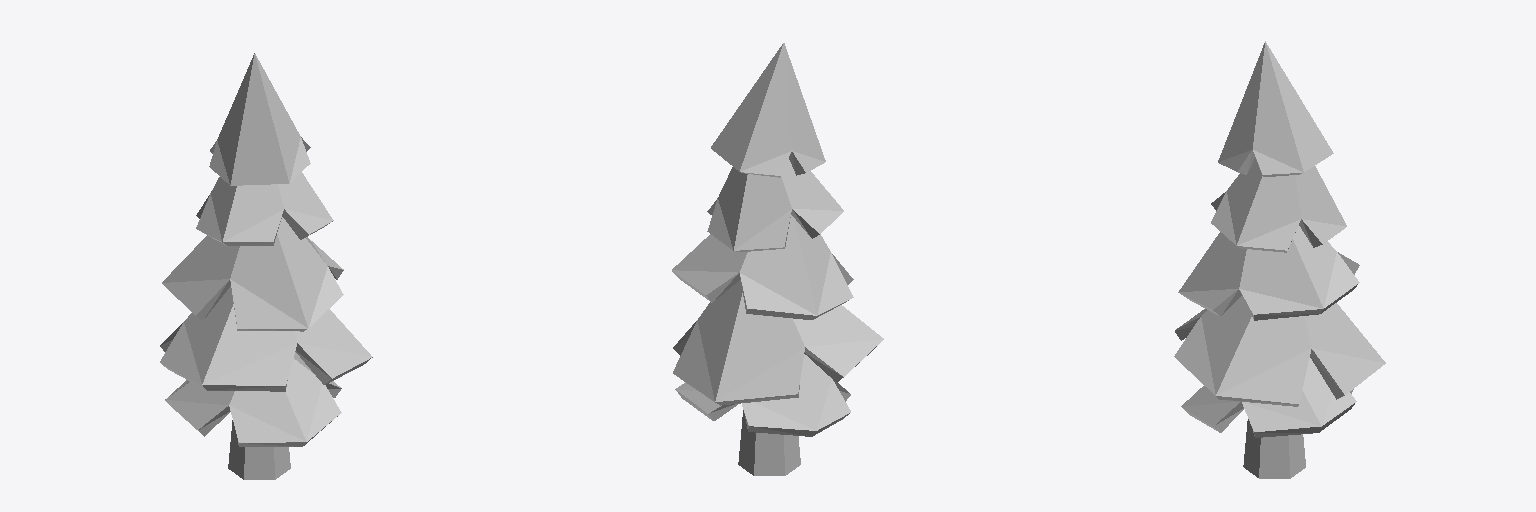
Rendered from tree_2.obj.
The picture shows the model from 3 angles: view 1: azimuth 30°, elevation 25°; view 2: azimuth 150°, elevation 25°; view 3: azimuth 270°, elevation 25°; orthographic projection.
Parts seen in each view (by area): view 1: Tree.009_Mat_tree_0; view 2: Tree.009_Mat_tree_0; view 3: Tree.009_Mat_tree_0.
Boxes of the visible parts, box(x1,y1,x2,y2) form: Tree.009_Mat_tree_0: box(160, 53, 372, 479); Tree.009_Mat_tree_0: box(672, 43, 883, 475); Tree.009_Mat_tree_0: box(1174, 41, 1385, 478).
Size of the model in its own units: 2.69 by 6.29 by 2.87.